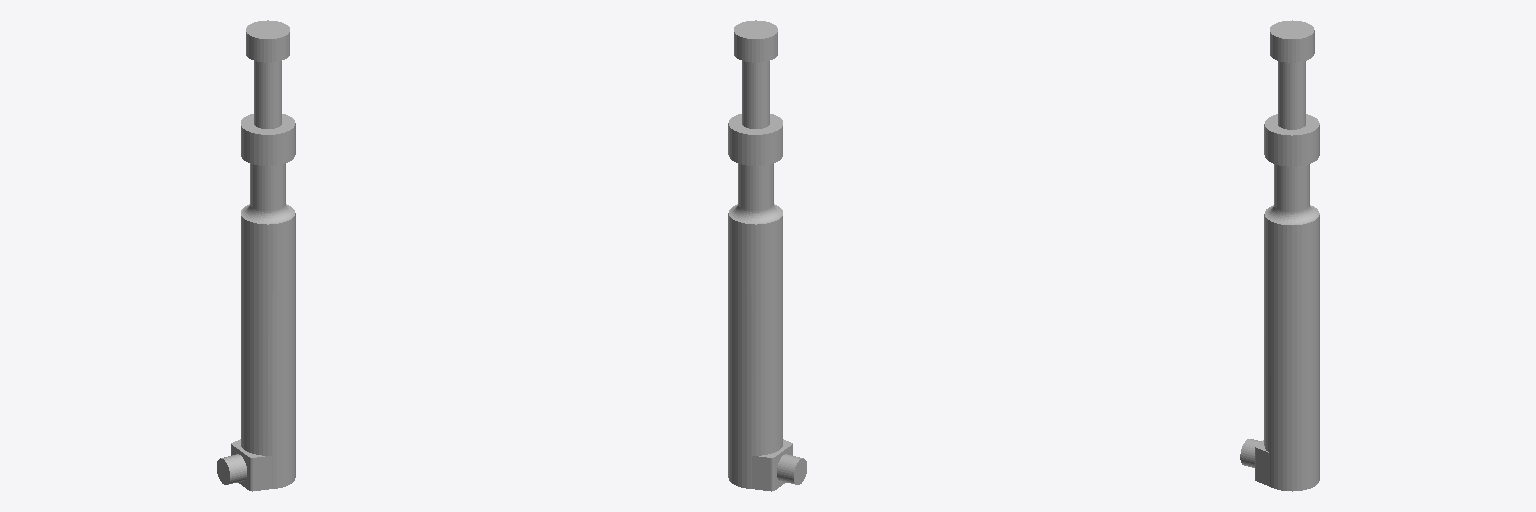
The robot description file, URDF, robot "GEN3_URDF_V12":
<robot name="GEN3_URDF_V12" version="1.0">
  <link name="base_link">
    <inertial>
      <origin xyz="-0.000648 -0.000166 0.084487" rpy="0 0 0" />
      <mass value="1.697" />
      <inertia ixx="0.004622" ixy="9E-06" ixz="6E-05" iyy="0.004495" iyz="9E-06" izz="0.002079" />
    </inertial>
    <visual>
      <origin xyz="0 0 0" rpy="0 0 0" />
      <geometry>
        <mesh filename="package://kortex_description/arms/gen3/7dof/meshes/base_link.STL" />
      </geometry>
      <material name="">
        <color rgba="0.75294 0.75294 0.75294 1" />
      </material>
    </visual>
    <collision>
      <origin xyz="0 0 0" rpy="0 0 0" />
      <geometry>
        <mesh filename="package://kortex_description/arms/gen3/7dof/meshes/base_link.STL" />
      </geometry>
    </collision>
  </link>
  <link name="Shoulder_Link">
    <inertial>
      <origin xyz="-2.3E-05 -0.010364 -0.07336" rpy="0 0 0" />
      <mass value="1.3773" />
      <inertia ixx="0.00457" ixy="1E-06" ixz="2E-06" iyy="0.004831" iyz="0.000448" izz="0.001409" />
    </inertial>
    <visual>
      <origin xyz="0 0 0" rpy="0 0 0" />
      <geometry>
        <mesh filename="package://kortex_description/arms/gen3/7dof/meshes/Shoulder_Link.STL" />
      </geometry>
      <material name="">
        <color rgba="0.75294 0.75294 0.75294 1" />
      </material>
    </visual>
    <collision>
      <origin xyz="0 0 0" rpy="0 0 0" />
      <geometry>
        <mesh filename="package://kortex_description/arms/gen3/7dof/meshes/Shoulder_Link.STL" />
      </geometry>
    </collision>
  </link>
  
  <joint name="Actuator1" type="continuous">
    <origin xyz="0 0 0.15643" rpy="3.1416 2.7629E-18 -4.9305E-36" />
    <parent link="base_link" />
    <child link="Shoulder_Link" />
    <axis xyz="0 0 1" />
    <limit effort="39" velocity="0.8727" />
  </joint>
  <link name="HalfArm1_Link">
    <inertial>
      <origin xyz="-4.4E-05 -0.09958 -0.013278" rpy="0 0 0" />
      <mass value="1.1636" />
      <inertia ixx="0.011088" ixy="5E-06" ixz="0" iyy="0.001072" iyz="-0.000691" izz="0.011255" />
    </inertial>
    <visual>
      <origin xyz="0 0 0" rpy="0 0 0" />
      <geometry>
        <mesh filename="package://kortex_description/arms/gen3/7dof/meshes/HalfArm1_Link.STL" />
      </geometry>
      <material name="">
        <color rgba="0.75294 0.75294 0.75294 1" />
      </material>
    </visual>
    <collision>
      <origin xyz="0 0 0" rpy="0 0 0" />
      <geometry>
        <mesh filename="package://kortex_description/arms/gen3/7dof/meshes/HalfArm1_Link.STL" />
      </geometry>
    </collision>
  </link>
  <joint name="Actuator2" type="revolute">
    <origin xyz="0 0.005375 -0.12838" rpy="1.5708 2.1343E-17 -1.1102E-16" />
    <parent link="Shoulder_Link" />
    <child link="HalfArm1_Link" />
    <axis xyz="0 0 1" />
    <limit lower="-2.41" upper="2.41" effort="39" velocity="0.8727" />
  </joint>
  <link name="HalfArm2_Link">
    <inertial>
      <origin xyz="-4.4E-05 -0.006641 -0.117892" rpy="0 0 0" />
      <mass value="1.1636" />
      <inertia ixx="0.010932" ixy="0" ixz="-7E-06" iyy="0.011127" iyz="0.000606" izz="0.001043" />
    </inertial>
    <visual>
      <origin xyz="0 0 0" rpy="0 0 0" />
      <geometry>
        <mesh filename="package://kortex_description/arms/gen3/7dof/meshes/HalfArm2_Link.STL" />
      </geometry>
      <material name="">
        <color rgba="0.75294 0.75294 0.75294 1" />
      </material>
    </visual>
    <collision>
      <origin xyz="0 0 0" rpy="0 0 0" />
      <geometry>
        <mesh filename="package://kortex_description/arms/gen3/7dof/meshes/HalfArm2_Link.STL" />
      </geometry>
    </collision>
  </link>
  <joint name="Actuator3" type="continuous">
    <origin xyz="0 -0.21038 -0.006375" rpy="-1.5708 1.2326E-32 -2.9122E-16" />
    <parent link="HalfArm1_Link" />
    <child link="HalfArm2_Link" />
    <axis xyz="0 0 1" />
    <limit effort="39" velocity="0.8727" />
  </joint>
  <link name="ForeArm_Link">
    <inertial>
      <origin xyz="-1.8E-05 -0.075478 -0.015006" rpy="0 0 0" />
      <mass value="0.9302" />
      <inertia ixx="0.008147" ixy="-1E-06" ixz="0" iyy="0.000631" iyz="-0.0005" izz="0.008316" />
    </inertial>
    <visual>
      <origin xyz="0 0 0" rpy="0 0 0" />
      <geometry>
        <mesh filename="package://kortex_description/arms/gen3/7dof/meshes/ForeArm_Link.STL" />
      </geometry>
      <material name="">
        <color rgba="0.75294 0.75294 0.75294 1" />
      </material>
    </visual>
    <collision>
      <origin xyz="0 0 0" rpy="0 0 0" />
      <geometry>
        <mesh filename="package://kortex_description/arms/gen3/7dof/meshes/ForeArm_Link.STL" />
      </geometry>
    </collision>
  </link>
  <joint name="Actuator4" type="revolute">
    <origin xyz="0 0.006375 -0.21038" rpy="1.5708 -6.6954E-17 -1.6653E-16" />
    <parent link="HalfArm2_Link" />
    <child link="ForeArm_Link" />
    <axis xyz="0 0 1" />
    <limit lower="-2.66" upper="2.66" effort="39" velocity="0.8727" />
  </joint>
  <link name="SphericalWrist1_Link">
    <inertial>
      <origin xyz="1E-06 -0.009432 -0.063883" rpy="0 0 0" />
      <mass value="0.6781" />
      <inertia ixx="0.001596" ixy="0" ixz="0" iyy="0.001607" iyz="0.000256" izz="0.000399" />
    </inertial>
    <visual>
      <origin xyz="0 0 0" rpy="0 0 0" />
      <geometry>
        <mesh filename="package://kortex_description/arms/gen3/7dof/meshes/SphericalWrist1_Link.STL" />
      </geometry>
      <material name="">
        <color rgba="0.75294 0.75294 0.75294 1" />
      </material>
    </visual>
    <collision>
      <origin xyz="0 0 0" rpy="0 0 0" />
      <geometry>
        <mesh filename="package://kortex_description/arms/gen3/7dof/meshes/SphericalWrist1_Link.STL" />
      </geometry>
    </collision>
  </link>
  <joint name="Actuator5" type="continuous">
    <origin xyz="0 -0.20843 -0.006375" rpy="-1.5708 2.2204E-16 -6.373E-17" />
    <parent link="ForeArm_Link" />
    <child link="SphericalWrist1_Link" />
    <axis xyz="0 0 1" />
    <limit effort="9" velocity="0.8727" />
  </joint>
  <link name="SphericalWrist2_Link">
    <inertial>
      <origin xyz="1E-06 -0.045483 -0.00965" rpy="0 0 0" />
      <mass value="0.6781" />
      <inertia ixx="0.001641" ixy="0" ixz="0" iyy="0.00041" iyz="-0.000278" izz="0.001641" />
    </inertial>
    <visual>
      <origin xyz="0 0 0" rpy="0 0 0" />
      <geometry>
        <mesh filename="package://kortex_description/arms/gen3/7dof/meshes/SphericalWrist2_Link.STL" />
      </geometry>
      <material name="">
        <color rgba="0.75294 0.75294 0.75294 1" />
      </material>
    </visual>
    <collision>
      <origin xyz="0 0 0" rpy="0 0 0" />
      <geometry>
        <mesh filename="package://kortex_description/arms/gen3/7dof/meshes/SphericalWrist2_Link.STL" />
      </geometry>
    </collision>
  </link>
  <joint name="Actuator6" type="revolute">
    <origin xyz="0 0.00017505 -0.10593" rpy="1.5708 9.2076E-28 -8.2157E-15" />
    <parent link="SphericalWrist1_Link" />
    <child link="SphericalWrist2_Link" />
    <axis xyz="0 0 1" />
    <limit lower="-2.23" upper="2.23" effort="9" velocity="0.8727" />
  </joint>
  <link name="Bracelet_Link">
    <inertial>
      <origin xyz="-9.3E-05 0.000132 -0.022905" rpy="0 0 0" />
      <mass value="0.364" />
      <inertia ixx="0.000214" ixy="0" ixz="1E-06" iyy="0.000223" iyz="-2E-06" izz="0.00024" />
    </inertial>
    <visual>
      <origin xyz="-0.03 -0.02 0" rpy="-1.5708 0 0" />
      <geometry>
        <mesh filename="package://kortex_description/arms/gen3/7dof/meshes/ReamerHandle.STL" />
      </geometry>
      <material name="">
        <color rgba="0.75294 0.75294 0.75294 1" />
      </material>
    </visual>
    <collision>
      <origin xyz="-0.03 -0.02 0" rpy="-1.5708 0 0" />
      <geometry>
        <mesh filename="package://kortex_description/arms/gen3/7dof/meshes/ReamerHandle.STL" />
      </geometry>
    </collision>
  </link>
  <joint name="Actuator7" type="continuous">
    <origin xyz="0 -0.10593 -0.00017505" rpy="-1.5708 -5.5511E-17 9.6396E-17" />
    <parent link="SphericalWrist2_Link" />
    <child link="Bracelet_Link" />
    <axis xyz="0 0 1" />
    <limit effort="9" velocity="0.8727" />
  </joint>
  <link name="EndEffector_Link" />
  <joint name="EndEffector" type="fixed">
    <origin xyz="0 0 -0.0615250000000001" rpy="3.14159265358979 1.09937075168372E-32 0" />
    <parent link="Bracelet_Link" />
    <child link="EndEffector_Link" />
    <axis xyz="0 0 0" />
  </joint>
</robot>

--- Facts derived from the render (not from the file) ---
Views: 3 orthographic renders of the robot side by side, from view 1: azimuth 30°, elevation 25°; view 2: azimuth 150°, elevation 25°; view 3: azimuth 330°, elevation 25°.
Robot: GEN3_URDF_V12 — 9 links, 8 joints (3 revolute, 4 continuous, 1 fixed); root link base_link; default pose: all joints at 0.
Visible links, largest first — view 1: Bracelet_Link; view 2: Bracelet_Link; view 3: Bracelet_Link.
Boxes of the visible links, left/top/right/bottom form: Bracelet_Link: left=217, top=20, right=295, bottom=491; Bracelet_Link: left=728, top=20, right=806, bottom=491; Bracelet_Link: left=1240, top=20, right=1319, bottom=491.
Size in the robot's own frame: 46 by 32 by 288 metres.
Meshes: 8 distinct files referenced, 1 mesh visuals loaded (1 ASCII STL); not drawn: 7 (reference not matched to a file when rendering).